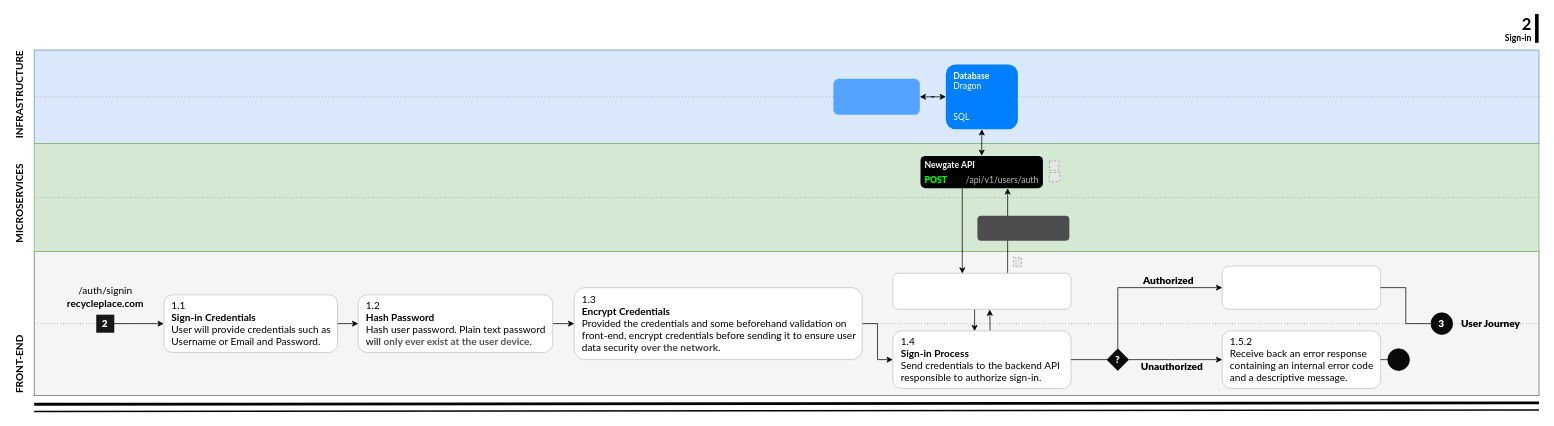
Some shapes in this 1554 by 426 pixel diagram are drawn without their labels. Grey dashed boxes stand in for pictures. Here are the shapes that lost their labels. From the top down, the centre of each, then its label:
point (876, 96): Users Table
point (1023, 227): PAYLOAD data: UserCredentials
point (981, 291): Sign-in Route [example] recycleplace.com/auth/signup
point (1301, 287): 1.5.1 Receives back a success message with an authorization token.
